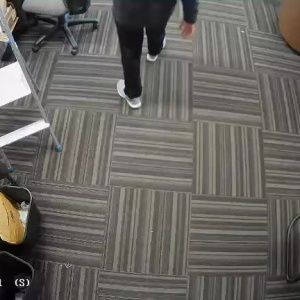person: (96, 0, 205, 113)
